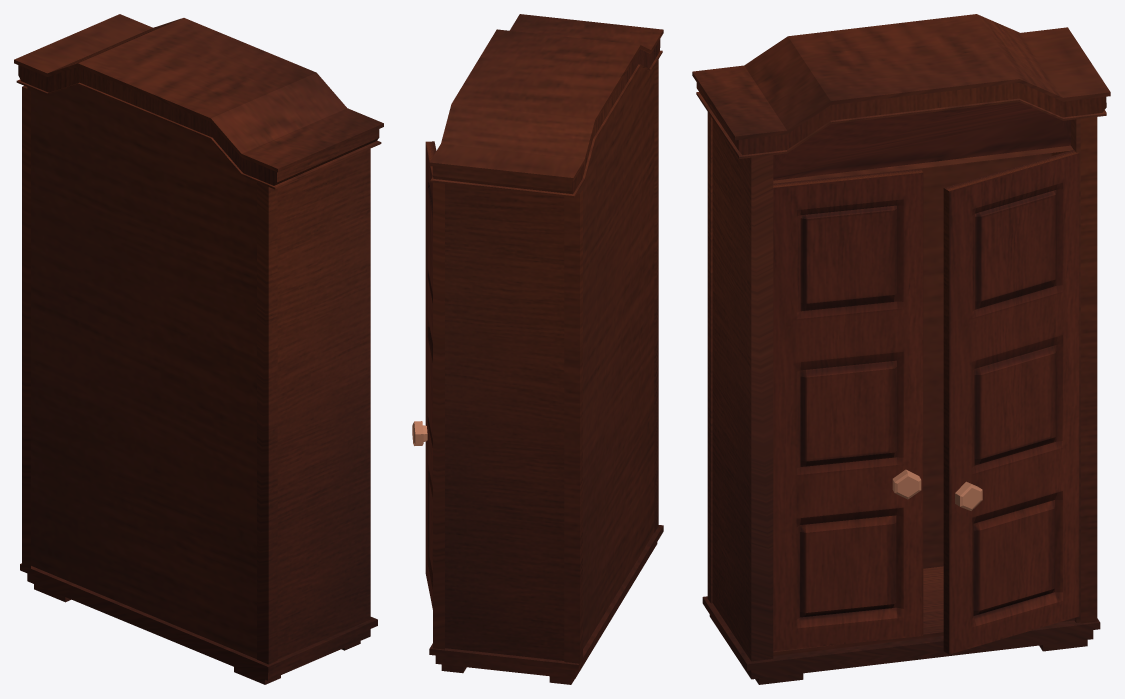
The model's file is cupboard.glb.
3 renders of one model, left to right at view 1: azimuth 30°, elevation 25°; view 2: azimuth 150°, elevation 25°; view 3: azimuth 270°, elevation 25°, orthographic. The views are drawn at different scales.
Visible parts, largest first — view 1: Cube.097_Material.002_0_4; view 2: Cube.097_Material.002_0_4, Cube.098_Material.007_0_13; view 3: Cube.097_Material.002_0_4, Cube.104_Material.007_0_8, Cube.098_Material.007_0_13, Cube.097_Material.003_0_5, Cube.098_Material.002_0_12, Cube.104_Material.002_0_7, Cube.103_Material.008_0_10.
Part boxes in pixels (x1,y1,x2,y2): Cube.097_Material.002_0_4: (14,14,383,684); Cube.097_Material.002_0_4: (429,14,663,684); Cube.098_Material.007_0_13: (425,143,432,609); Cube.097_Material.002_0_4: (692,14,1110,684); Cube.104_Material.007_0_8: (773,172,923,651); Cube.098_Material.007_0_13: (949,153,1079,654); Cube.097_Material.003_0_5: (773,102,1070,180); Cube.098_Material.002_0_12: (943,149,1078,654); Cube.104_Material.002_0_7: (773,168,922,187); Cube.103_Material.008_0_10: (892,469,921,499).
Bounding box in the file's own units: 3.37 × 8.25 × 5.41.
4 materials, 3 textured.
